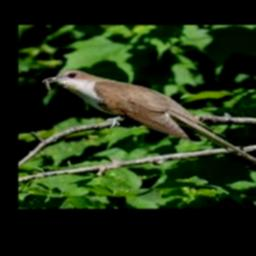Cuckoo: (43, 69, 256, 170)
